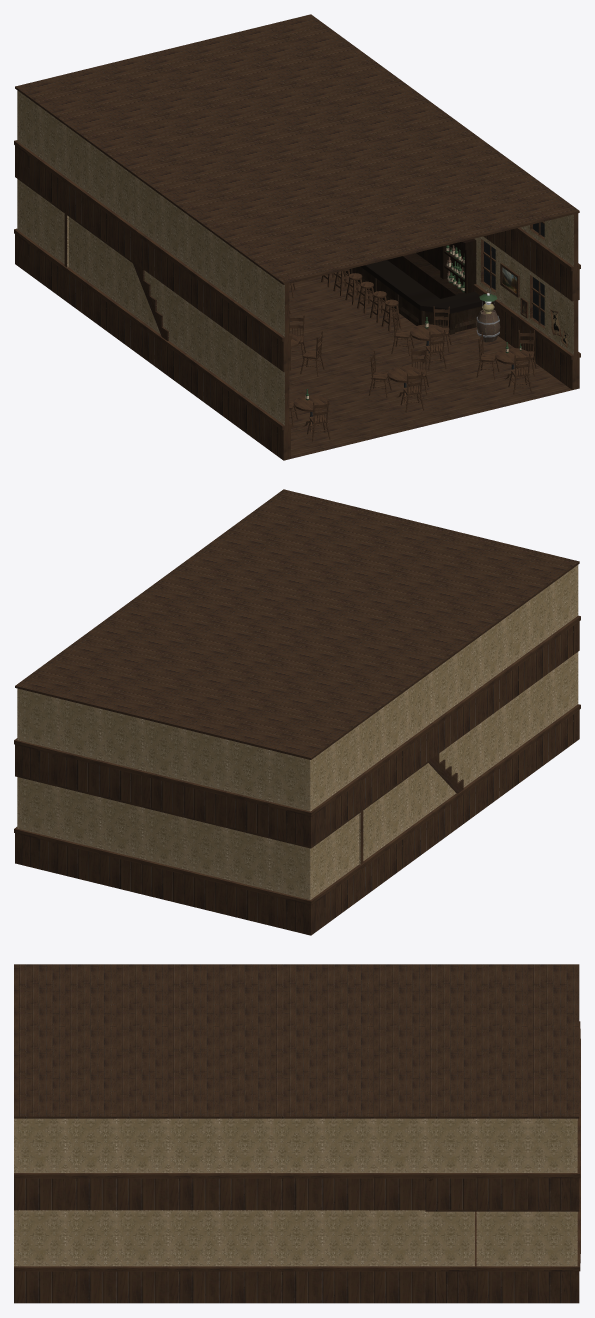
File: saloon_int.glb
3 renders of one model, top to bottom at view 1: azimuth 30°, elevation 25°; view 2: azimuth 150°, elevation 25°; view 3: azimuth 270°, elevation 25°, orthographic. The views are drawn at different scales.
Parts seen in each view (by area): view 1: EnvironmentBuilt:SM_BarCorner1, EnvironmentBuilt:SM_Wall34, EnvironmentBuilt:SM_Wall55, EnvironmentBuilt:SM_Wall35, EnvironmentBuilt:SM_Wall60, EnvironmentBuilt:SM_Wall1, EnvironmentBuilt:SM_WallWindow7, EnvironmentBuilt:SM_Wall56, EnvironmentBuilt:SM_WallWindow16, EnvironmentBuilt:SM_Wall41, EnvironmentBuilt:SM_WallWindow17, EnvironmentBuilt:SM_Wall40 (+121 smaller); view 2: SM_WallCorner3, SM_WallCorner2, EnvironmentBuilt:SM_Wall20, EnvironmentBuilt:SM_Wall18, EnvironmentBuilt:SM_Wall22, EnvironmentBuilt:SM_Wall21, EnvironmentBuilt:SM_Wall32, EnvironmentBuilt:SM_Wall44, EnvironmentBuilt:SM_WallWindow29, EnvironmentBuilt:SM_Wall46, EnvironmentBuilt:SM_WallWindow30, EnvironmentBuilt:SM_WallWindow28 (+99 smaller); view 3: EnvironmentBuilt:SM_Wall11, EnvironmentBuilt:SM_Wall59, EnvironmentBuilt:SM_Wall8, EnvironmentBuilt:SM_WallWindow22, EnvironmentBuilt:SM_WallWindow23, EnvironmentBuilt:SM_Wall7, EnvironmentBuilt:SM_Wall38, EnvironmentBuilt:SM_Wall35, EnvironmentBuilt:SM_WallWindow24, EnvironmentBuilt:SM_Wall50, EnvironmentBuilt:SM_WallWindow21, EnvironmentBuilt:SM_WallWindow26 (+87 smaller).
Part boxes in pixels (<box>): EnvironmentBuilt:SM_BarCorner1: <box>395,282,485,334</box>; EnvironmentBuilt:SM_Wall34: <box>258,355,292,460</box>; EnvironmentBuilt:SM_Wall55: <box>258,268,292,371</box>; EnvironmentBuilt:SM_Wall35: <box>546,285,580,389</box>; EnvironmentBuilt:SM_Wall60: <box>546,213,580,301</box>; EnvironmentBuilt:SM_Wall1: <box>209,320,236,424</box>; EnvironmentBuilt:SM_WallWindow7: <box>233,338,260,442</box>; EnvironmentBuilt:SM_Wall56: <box>209,233,236,335</box>; EnvironmentBuilt:SM_WallWindow16: <box>184,302,211,406</box>; EnvironmentBuilt:SM_Wall41: <box>62,125,89,228</box>; EnvironmentBuilt:SM_WallWindow17: <box>233,251,260,353</box>; EnvironmentBuilt:SM_Wall40: <box>87,143,113,246</box>; SM_WallCorner3: <box>268,832,336,935</box>; SM_WallCorner2: <box>268,743,336,846</box>; EnvironmentBuilt:SM_Wall20: <box>99,797,142,894</box>; EnvironmentBuilt:SM_Wall18: <box>225,828,269,925</box>; EnvironmentBuilt:SM_Wall22: <box>183,818,227,914</box>; EnvironmentBuilt:SM_Wall21: <box>141,807,184,904</box>; EnvironmentBuilt:SM_Wall32: <box>56,787,100,883</box>; EnvironmentBuilt:SM_Wall44: <box>183,729,227,826</box>; EnvironmentBuilt:SM_WallWindow29: <box>141,719,184,815</box>; EnvironmentBuilt:SM_Wall46: <box>99,709,142,805</box>; EnvironmentBuilt:SM_WallWindow30: <box>56,698,100,794</box>; EnvironmentBuilt:SM_WallWindow28: <box>225,740,269,836</box>; EnvironmentBuilt:SM_Wall11: <box>116,1210,168,1303</box>; EnvironmentBuilt:SM_Wall59: <box>116,1118,168,1210</box>; EnvironmentBuilt:SM_Wall8: <box>322,1210,373,1303</box>; EnvironmentBuilt:SM_WallWindow22: <box>65,1210,116,1303</box>; EnvironmentBuilt:SM_WallWindow23: <box>168,1210,219,1303</box>; EnvironmentBuilt:SM_Wall7: <box>219,1210,270,1303</box>; EnvironmentBuilt:SM_Wall38: <box>374,1210,425,1303</box>; EnvironmentBuilt:SM_Wall35: <box>14,1210,65,1303</box>; EnvironmentBuilt:SM_WallWindow24: <box>271,1210,322,1303</box>; EnvironmentBuilt:SM_Wall50: <box>322,1118,373,1210</box>; EnvironmentBuilt:SM_WallWindow21: <box>65,1118,116,1210</box>; EnvironmentBuilt:SM_WallWindow26: <box>168,1118,219,1210</box>.
Bounding box in the file's own units: 0.0706 × 0.0401 × 0.1103.
5 materials, 5 textured.
